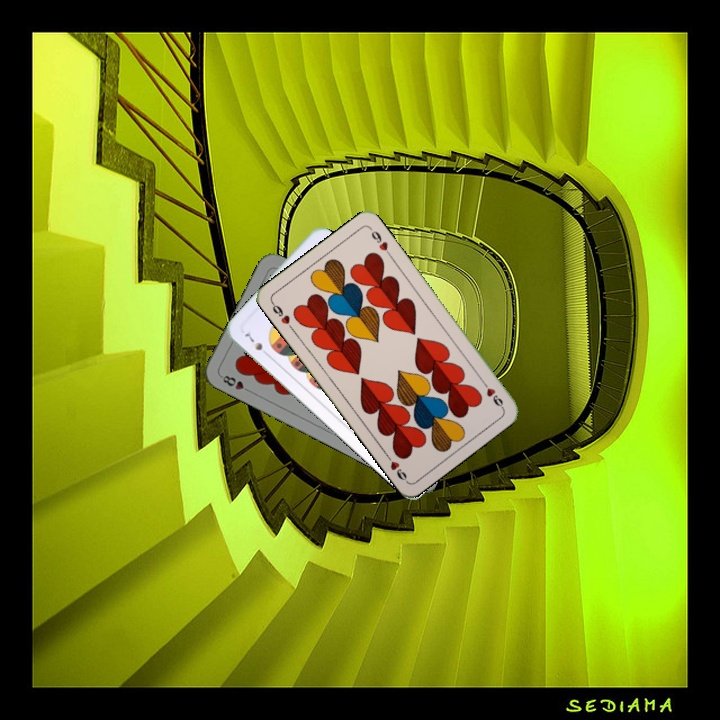H8: (216, 371, 254, 395)
H9: (267, 298, 296, 333), (477, 376, 506, 411)
S7: (240, 329, 272, 359)
